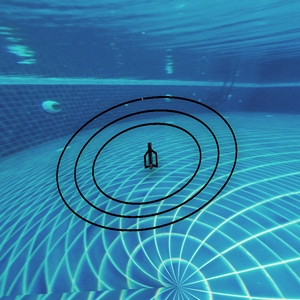circle: (49, 86, 245, 242)
submarine: (143, 145, 157, 167)
